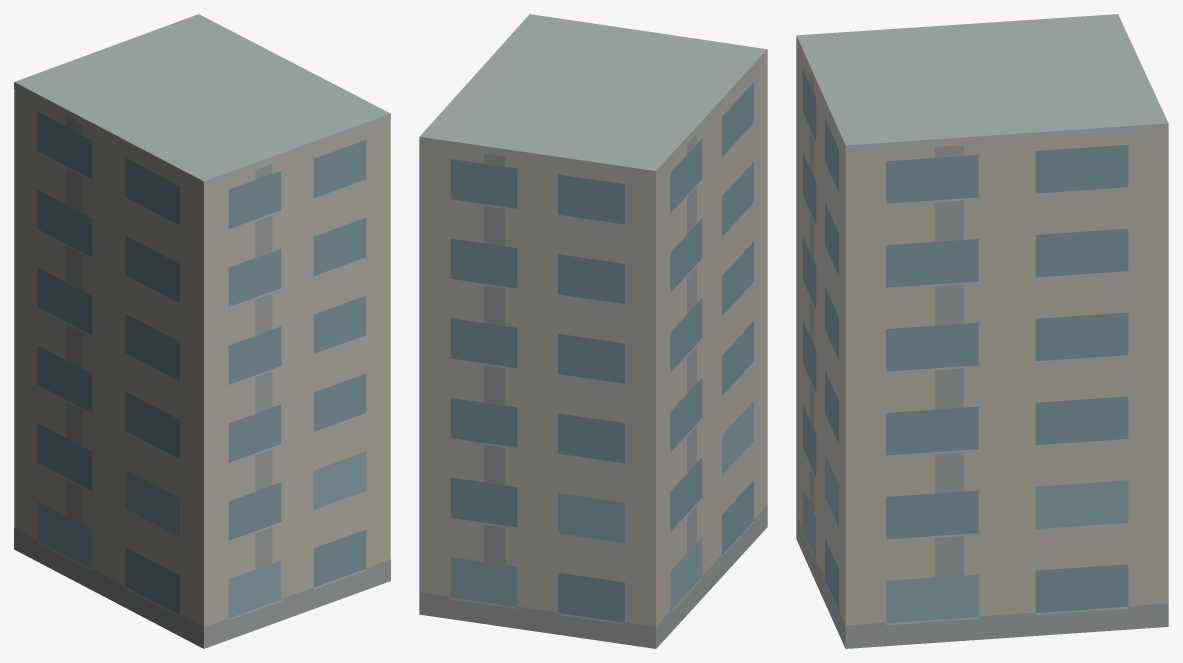
Rendered from survey-upis-32822333.glb.
3 renders of one model, left to right at view 1: azimuth 30°, elevation 25°; view 2: azimuth 150°, elevation 25°; view 3: azimuth 270°, elevation 25°, orthographic. The views are drawn at different scales.
Parts seen in each view (by area): view 1: survey-upis-32822333.tmp; view 2: survey-upis-32822333.tmp; view 3: survey-upis-32822333.tmp.
Part boxes in pixels (box(x1,y1,x2,y2)): survey-upis-32822333.tmp: box(14, 14, 390, 648); survey-upis-32822333.tmp: box(419, 14, 767, 648); survey-upis-32822333.tmp: box(796, 14, 1168, 648).
Bounding box in the file's own units: 9.14 × 16.3 × 10.94.
